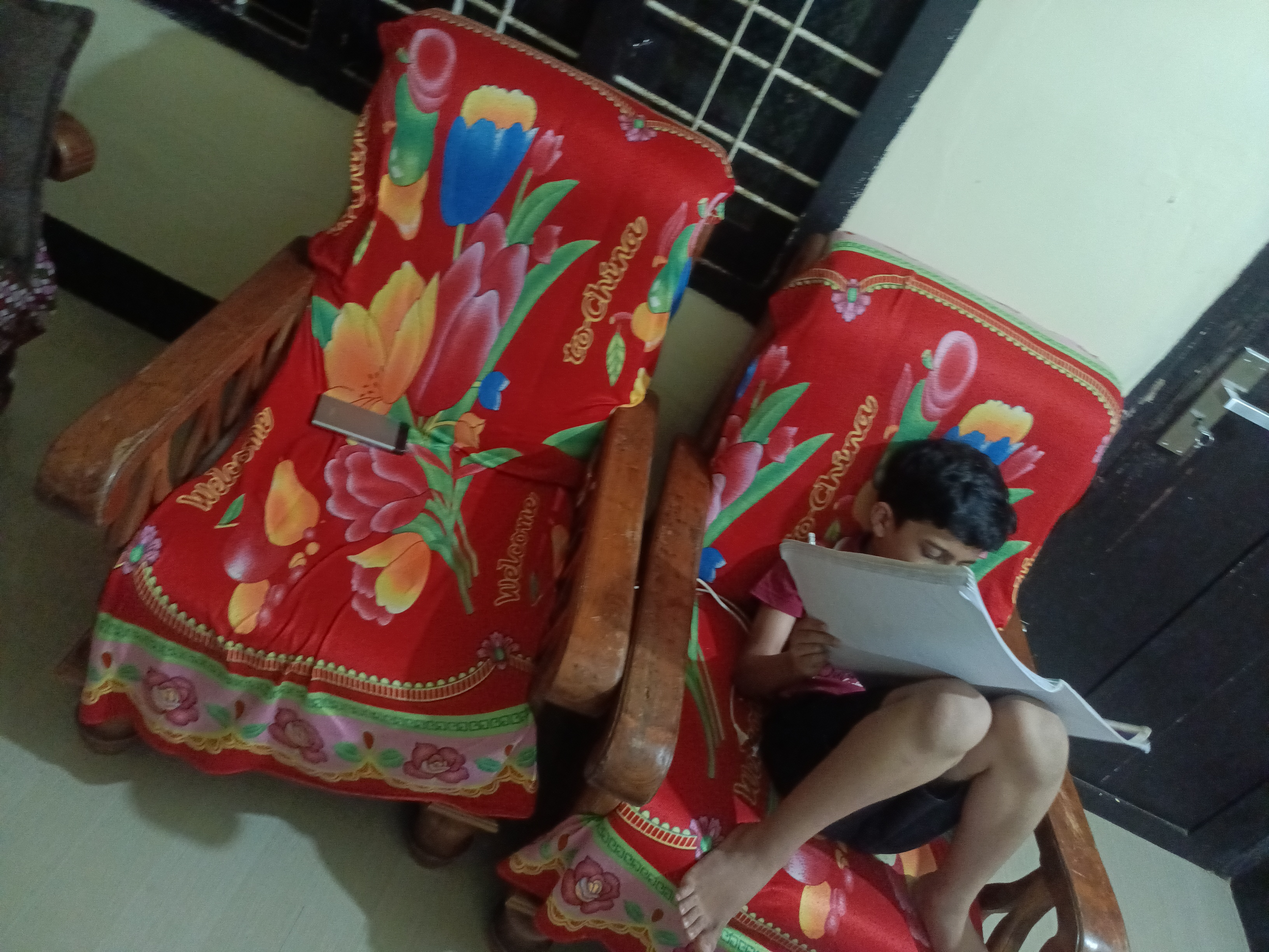sofa: (40, 8, 729, 865), (502, 229, 1126, 952)
